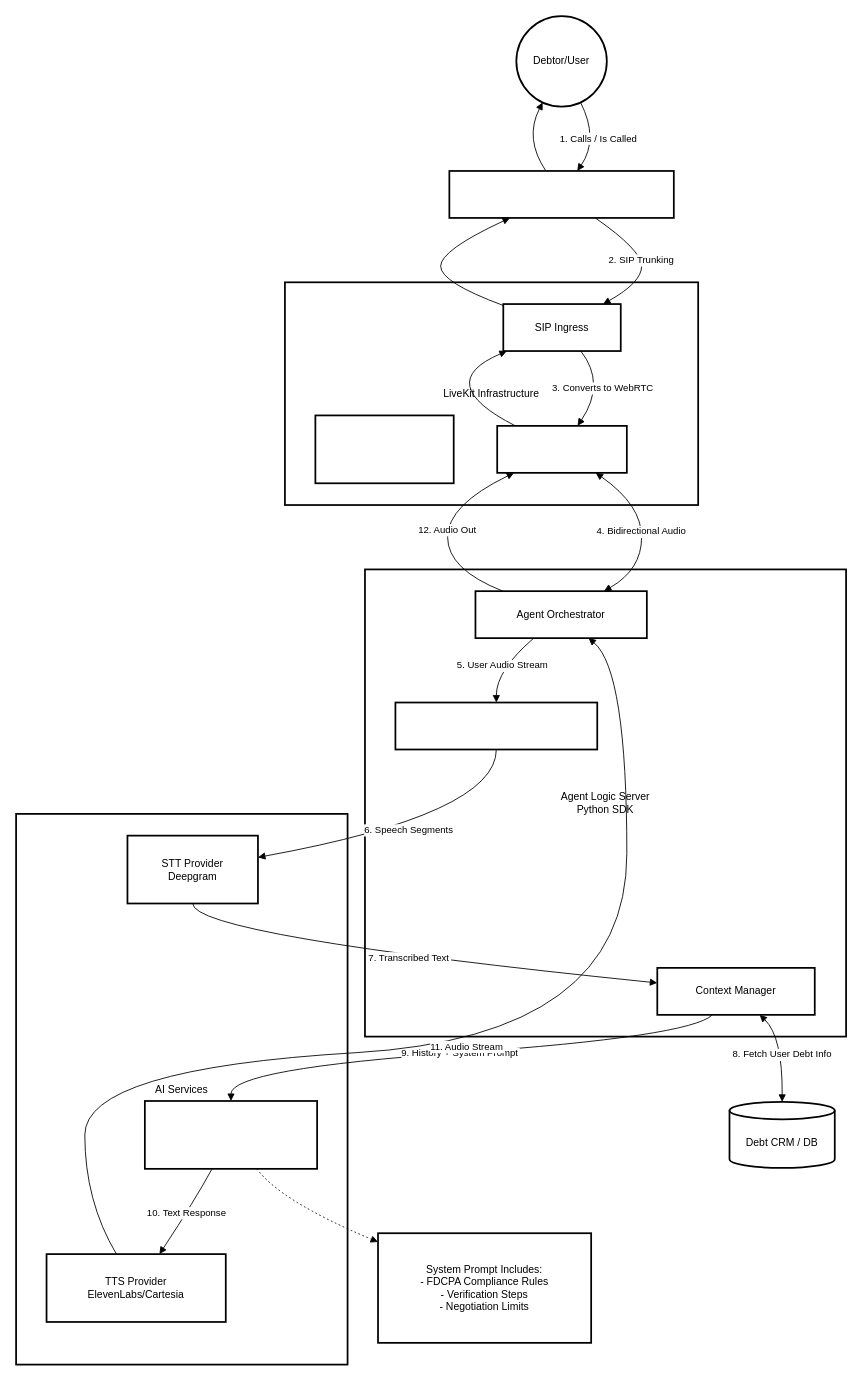
Some shapes in this 861 by 1380 pixel diagram are drawn without their labels. The shapes that lost their labels are listed below. From the top down, each one's centre as x and y in pixels, then its label:
At pixel 561 194: "PSTN / Twilio / SIP Provider".
At pixel 384 449: "LiveKit Server WebRTC SFU".
At pixel 561 449: "Active Room".
At pixel 496 725: "Voice Activity Detection".
At pixel 231 1134: "LLM Brain OpenAI / Anthropic".
